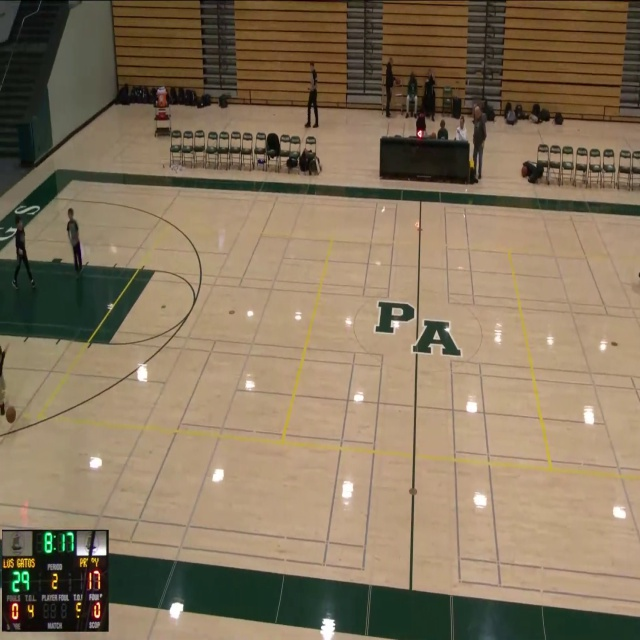Basketball: (5, 406, 16, 423), (521, 165, 528, 177)
